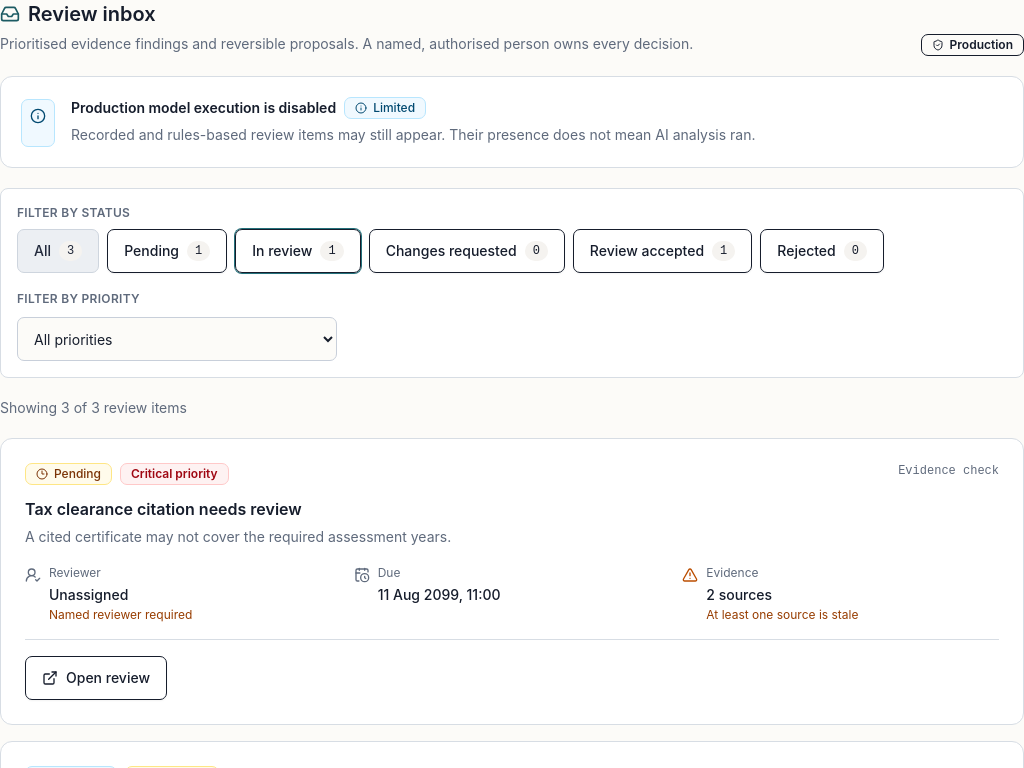
IntelligenceReviewInbox › filters by status with the keyboard and by priority
The image size is (1024, 768).
Press Enter
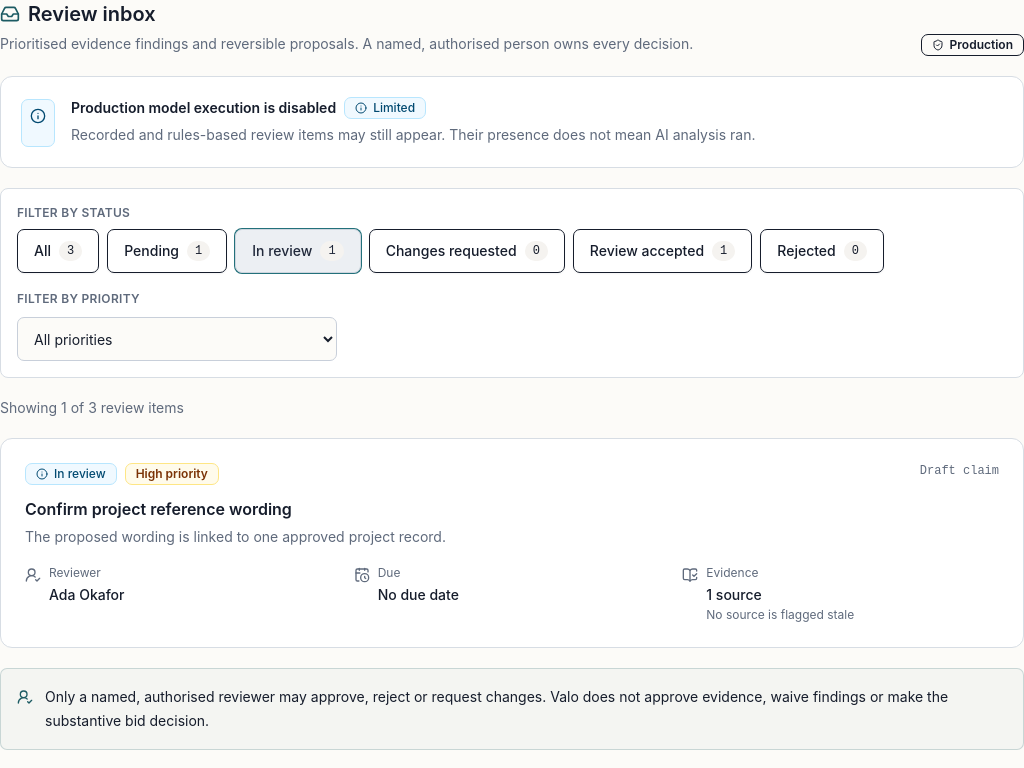
Expected: the heading "Confirm project reference wording" is shown, [25,499,292,519]
Expected: the heading "Tax clearance citation needs review" is gone
Select "Critical" in the dropdown labelled "Filter by priority" at x=177, y=339, box [17,317,337,361]
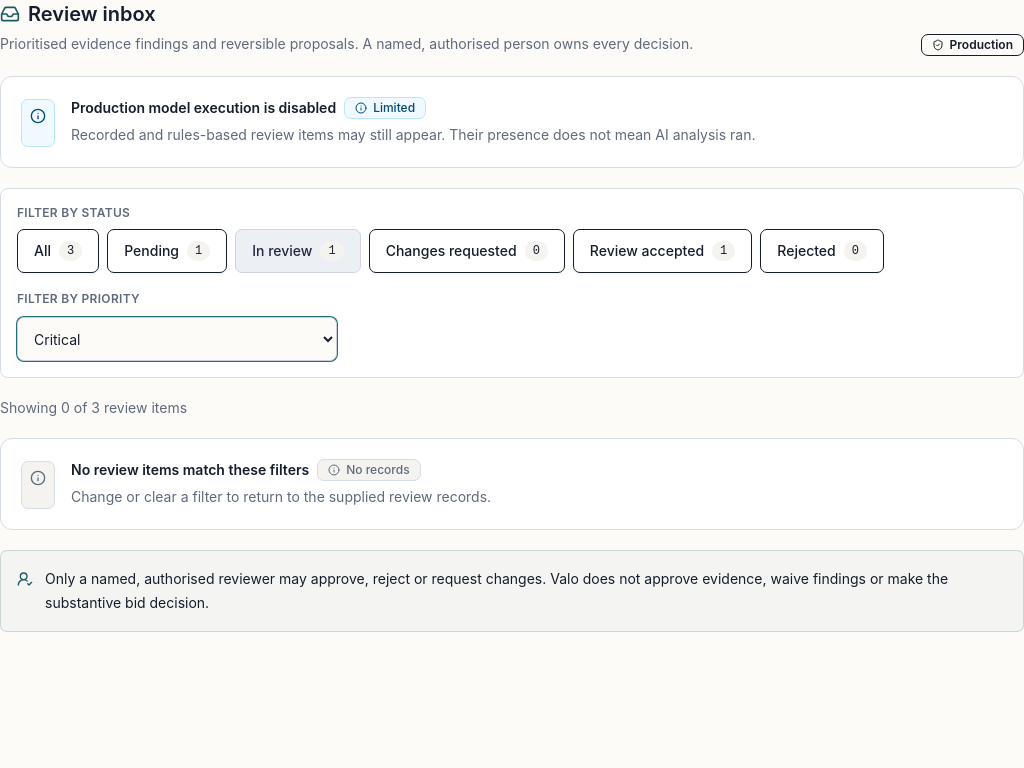
Expected: the heading "No review items match these filters" is shown, [71,460,309,480]
Expected: the text "Showing 0 of 3 review items" is shown, [0,399,187,416]
